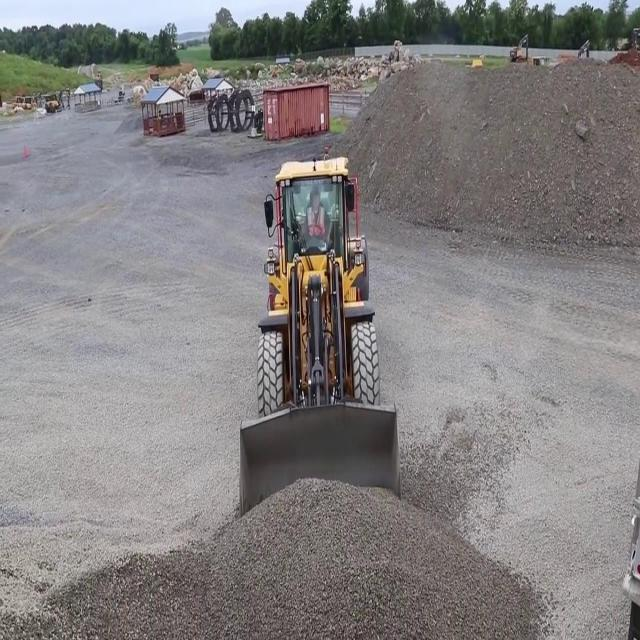Excavator: (508, 33, 529, 66)
Loader: (239, 145, 400, 519)
